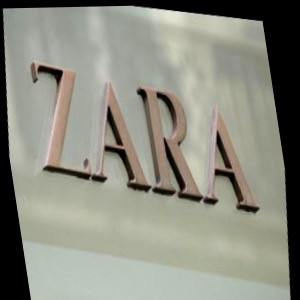zara: (240, 24, 265, 68)
